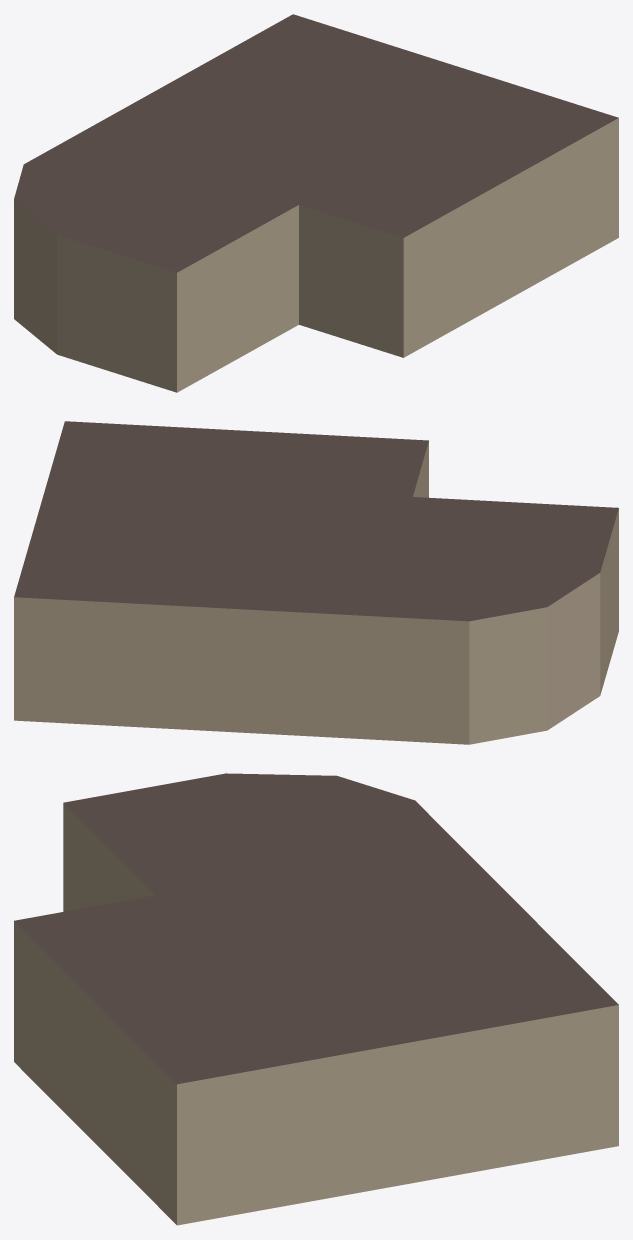
3 views of the same model, one above another, from view 1: azimuth 30°, elevation 25°; view 2: azimuth 150°, elevation 25°; view 3: azimuth 270°, elevation 25° (orthographic). The views are drawn at different scales.
Visible parts, largest first — view 1: HP-w859447931; view 2: HP-w859447931; view 3: HP-w859447931.
Boxes of the visible parts, x1,y1,x2,y2 form: HP-w859447931: [14, 14, 618, 392]; HP-w859447931: [14, 421, 618, 744]; HP-w859447931: [14, 773, 618, 1225].
Bounding box in the file's own units: 42.49 × 9 × 34.95.
